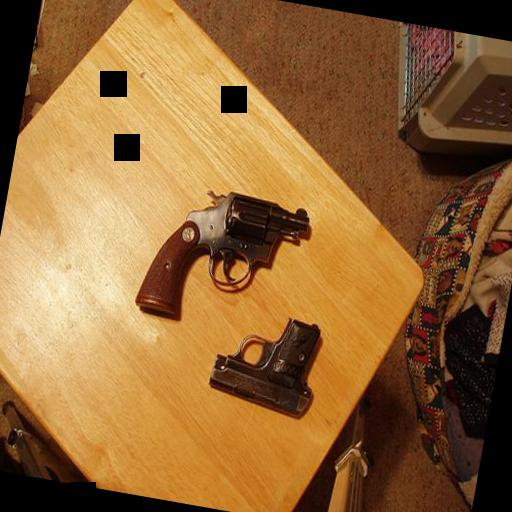Handgun: (130, 176, 313, 335), (202, 302, 325, 420)
